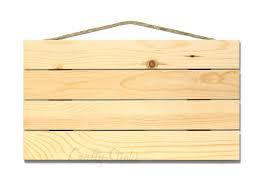wood: (16, 39, 244, 161)
